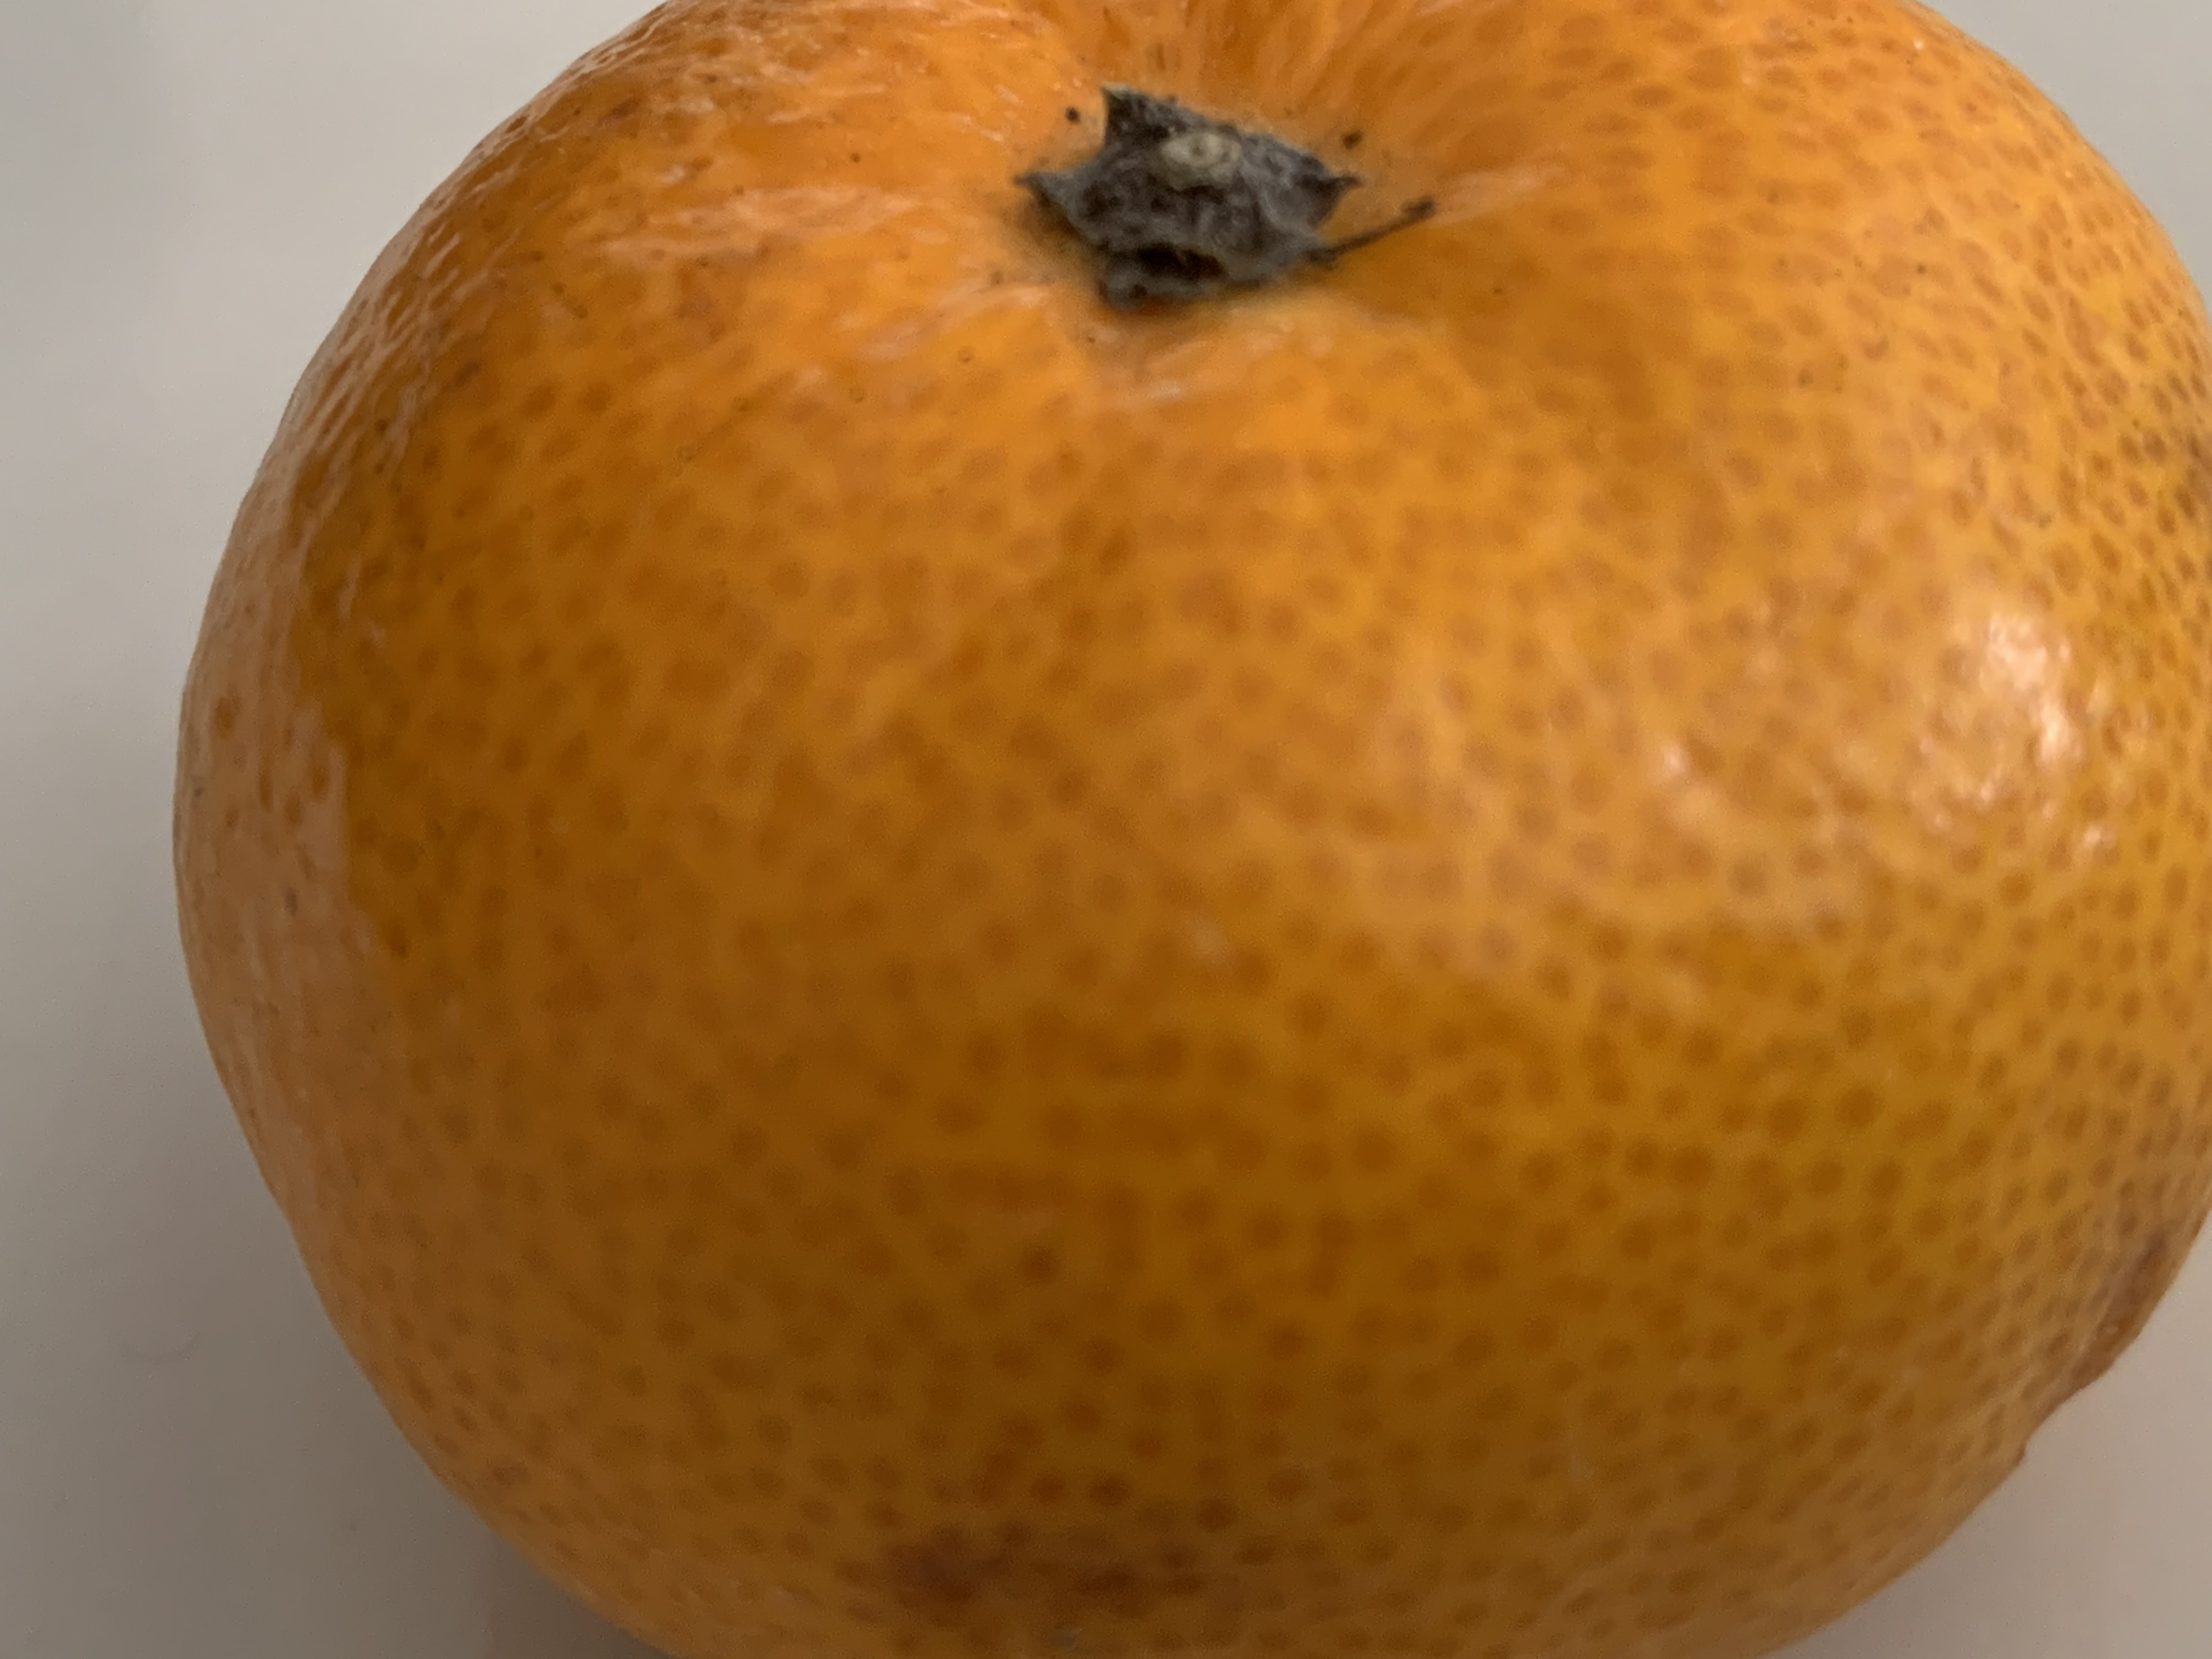orange: (206, 26, 2212, 1642)
